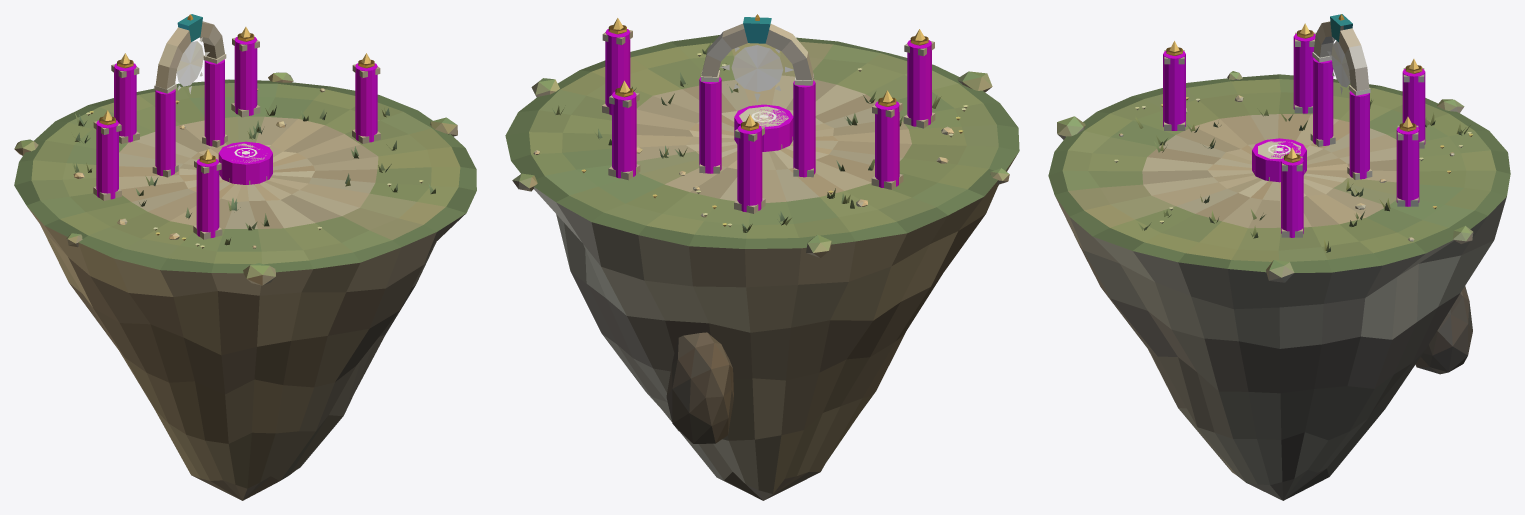
File: isle_shrine.glb
The picture shows the model from 3 angles, left to right: view 1: azimuth 30°, elevation 25°; view 2: azimuth 150°, elevation 25°; view 3: azimuth 270°, elevation 25°; orthographic projection. The views are drawn at different scales.
Parts seen in each view (by area): view 1: isle_shrine, col_altar, col_arch_l, col_arch_r, col_pillar_3, col_pillar_2, col_pillar_1, col_pillar_4, col_pillar_0, altar_glow; view 2: isle_shrine, altar_glow, col_arch_l, col_arch_r, col_pillar_0, col_pillar_1, col_pillar_2, col_pillar_3, col_pillar_4, col_altar; view 3: isle_shrine, col_arch_l, col_arch_r, col_pillar_2, col_pillar_3, col_pillar_4, col_pillar_1, col_pillar_0, col_altar, altar_glow.
Part boxes in pixels (bbox=[...]): isle_shrine: bbox=[14, 14, 476, 500]; col_altar: bbox=[218, 141, 272, 184]; col_arch_l: bbox=[204, 59, 224, 146]; col_arch_r: bbox=[155, 89, 175, 175]; col_pillar_3: bbox=[196, 159, 219, 237]; col_pillar_2: bbox=[234, 37, 257, 115]; col_pillar_1: bbox=[96, 120, 118, 199]; col_pillar_4: bbox=[355, 63, 377, 142]; col_pillar_0: bbox=[114, 63, 136, 142]; altar_glow: bbox=[176, 37, 257, 157]; isle_shrine: bbox=[505, 14, 1019, 500]; altar_glow: bbox=[720, 45, 793, 121]; col_arch_l: bbox=[699, 77, 721, 173]; col_arch_r: bbox=[793, 80, 815, 177]; col_pillar_0: bbox=[737, 125, 762, 212]; col_pillar_1: bbox=[875, 101, 899, 187]; col_pillar_2: bbox=[612, 91, 636, 178]; col_pillar_3: bbox=[907, 40, 931, 126]; col_pillar_4: bbox=[605, 29, 630, 115]; col_altar: bbox=[734, 104, 793, 151]; isle_shrine: bbox=[1048, 14, 1510, 500]; col_arch_l: bbox=[1349, 91, 1369, 179]; col_arch_r: bbox=[1313, 58, 1333, 145]; col_pillar_2: bbox=[1396, 126, 1419, 206]; col_pillar_3: bbox=[1163, 51, 1185, 130]; col_pillar_4: bbox=[1281, 158, 1303, 237]; col_pillar_1: bbox=[1293, 33, 1315, 113]; col_pillar_0: bbox=[1402, 69, 1425, 144]; col_altar: bbox=[1252, 138, 1306, 182]; altar_glow: bbox=[1268, 37, 1350, 154].
Bounding box in the file's own units: 21.05 × 22.98 × 20.25.
